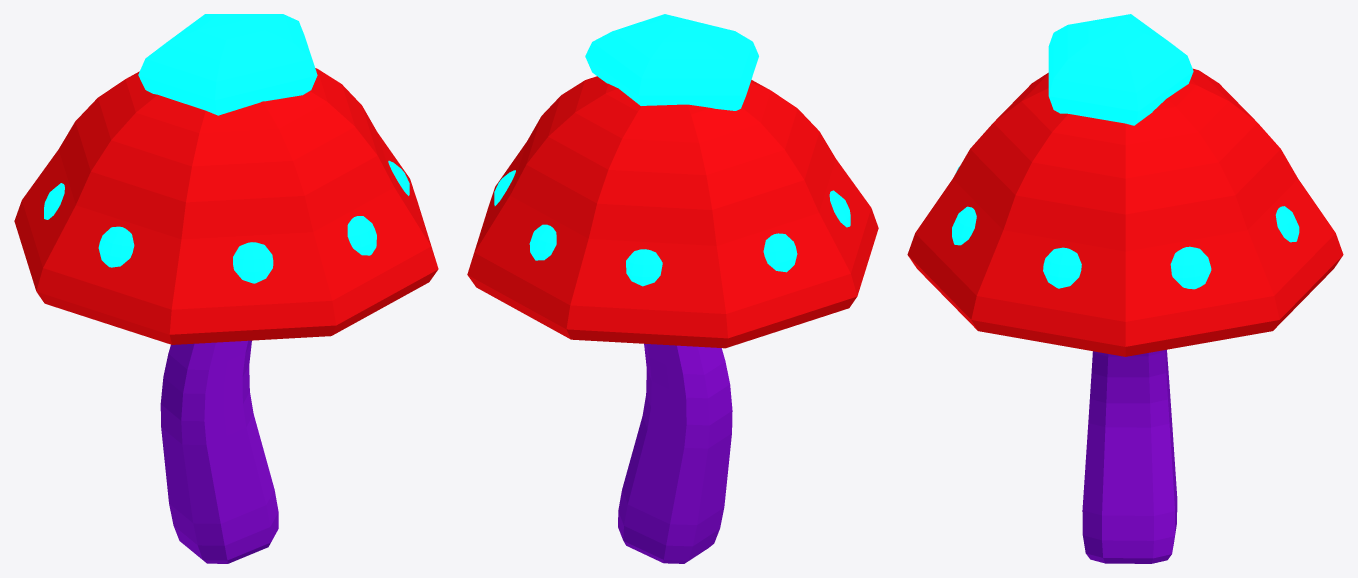
The model's file is Mushrooms_6.fbx.
3 renders of one model, left to right at view 1: azimuth 30°, elevation 25°; view 2: azimuth 150°, elevation 25°; view 3: azimuth 270°, elevation 25°, orthographic. The views are drawn at different scales.
Visible parts, largest first — view 1: Mushroom 6 -1; view 2: Mushroom 6 -1; view 3: Mushroom 6 -1.
Boxes of the visible parts, x1,y1,x2,y2 form: Mushroom 6 -1: [14, 14, 438, 563]; Mushroom 6 -1: [467, 14, 878, 563]; Mushroom 6 -1: [907, 14, 1343, 563].
Size of the model in its own units: 240 by 321 by 240.
